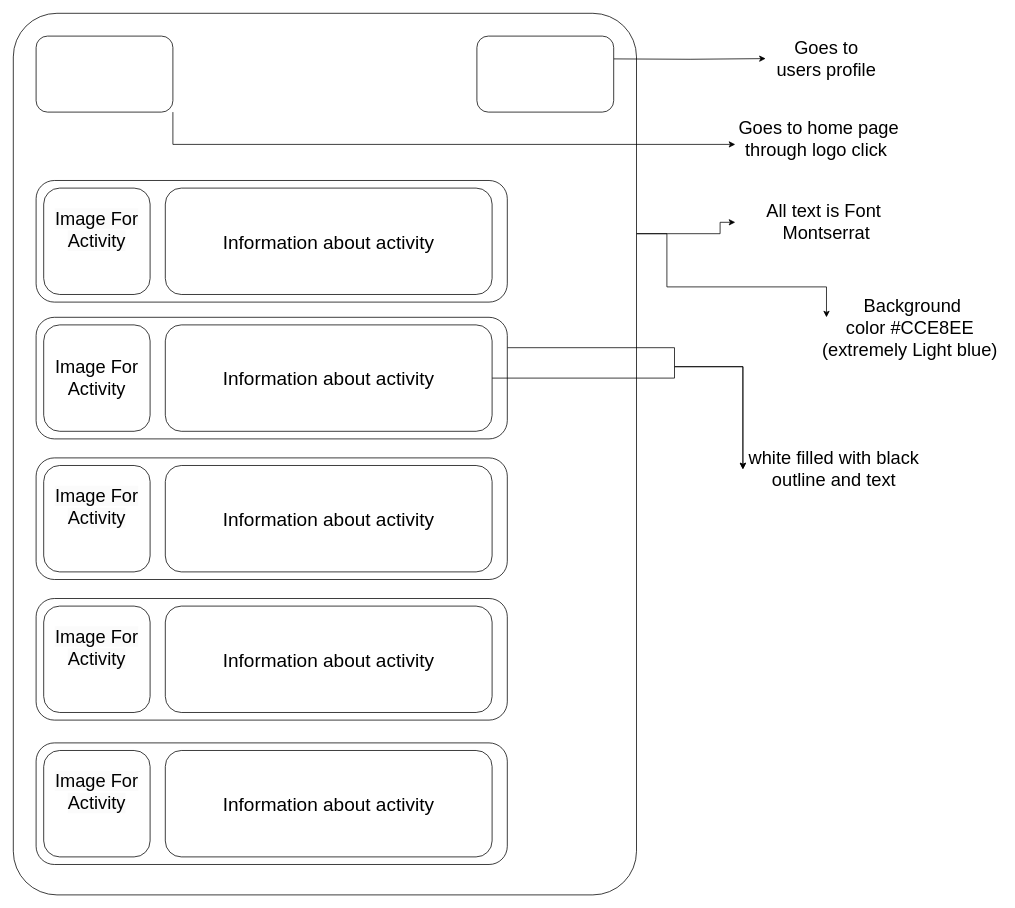
Some shapes in this 1015 by 908 pixel diagram are drawn without their labels. Each missing label, with the box of its shape:
IMG BTN Logo: (35, 35, 173, 112)
User Profile Button: (476, 35, 614, 112)
